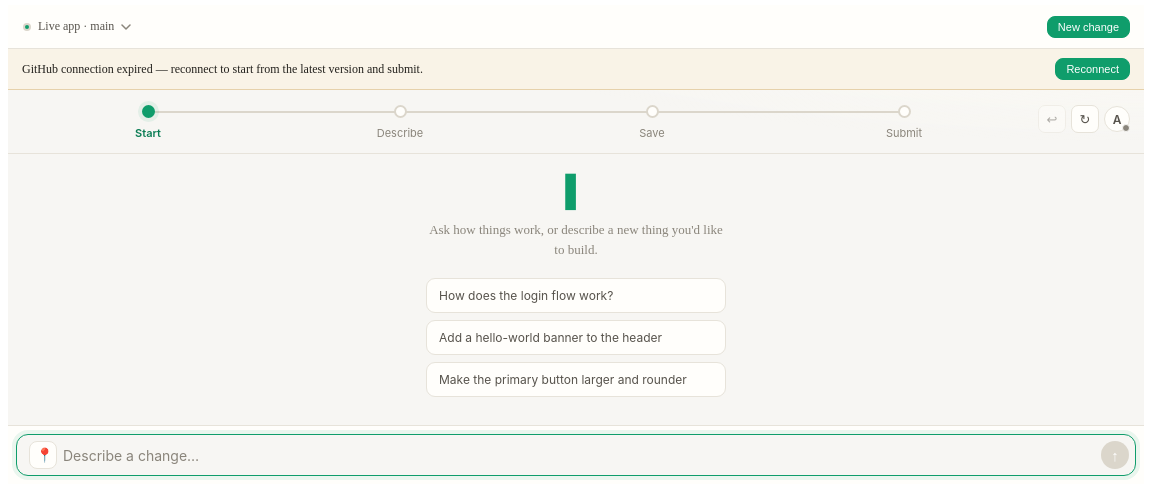
Test: Panel › shows a reconnect banner when the GitHub token is gone, and reconnects
The width and height of the screenshot is (1152, 497).
Expected: the text "GitHub connection expired" is shown, [22, 62, 423, 76]
Click the button "Reconnect".
click(1093, 69)  # box [1055, 58, 1130, 80]
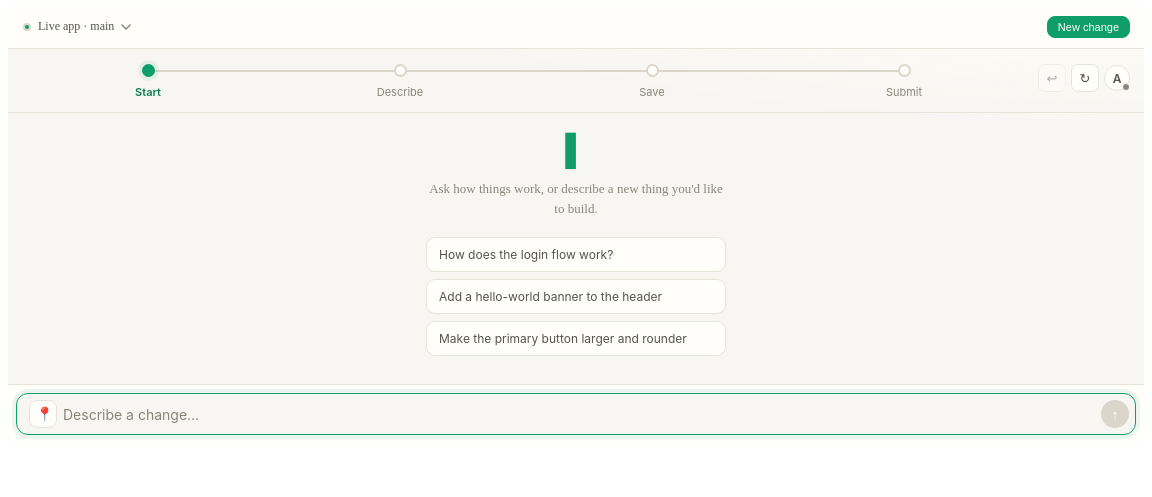
Expected: the text "GitHub connection expired" is gone
